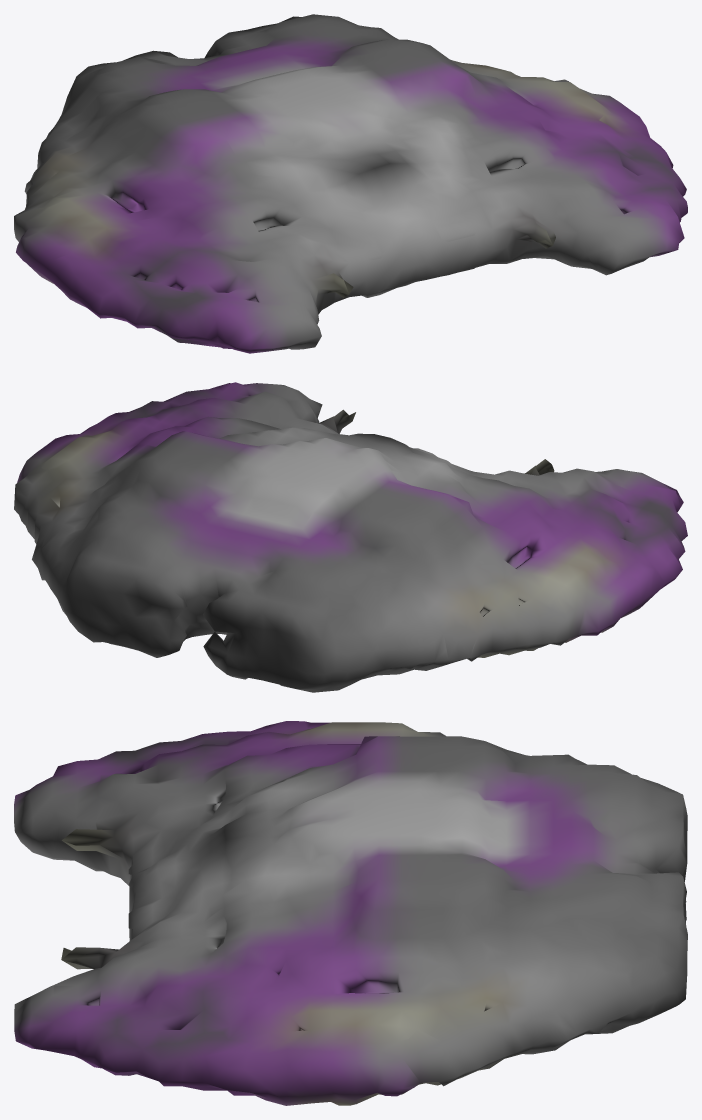
The model's file is crashed_ufo.glb.
3 views of the same model, one above another, from view 1: azimuth 30°, elevation 25°; view 2: azimuth 150°, elevation 25°; view 3: azimuth 270°, elevation 25° (orthographic). The views are drawn at different scales.
Visible parts, largest first — view 1: crashed_ufo; view 2: crashed_ufo; view 3: crashed_ufo.
Boxes of the visible parts, x1=… form: crashed_ufo: x1=14, y1=14, x2=687, y2=353; crashed_ufo: x1=14, y1=382, x2=687, y2=692; crashed_ufo: x1=14, y1=721, x2=687, y2=1105.
Size of the model in its own units: 2.92 by 0.6087 by 2.41.
